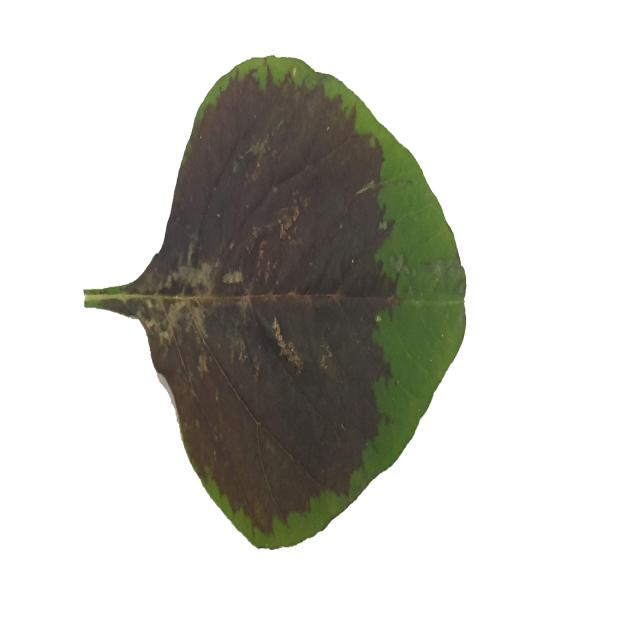Medicinal-Arive Dantu: (85, 57, 469, 556)
